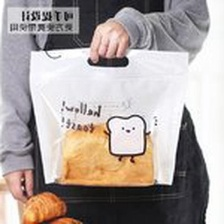snack: (20, 41, 198, 193)
